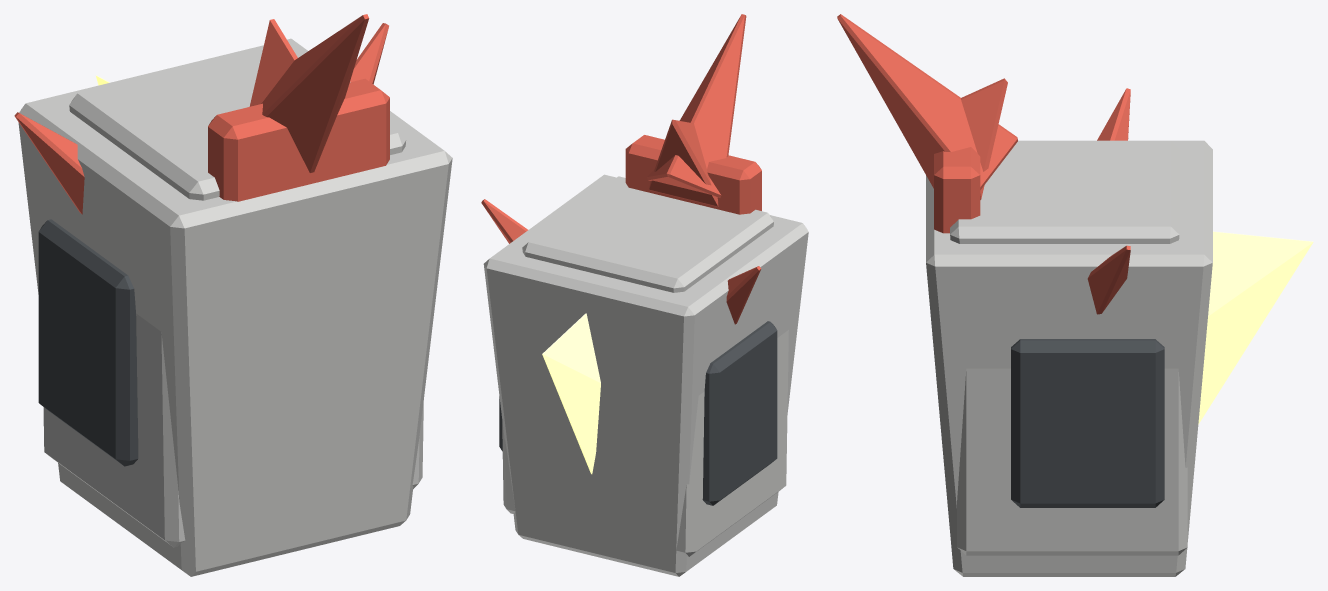
Rendered from legs.glb.
3 renders of one model, left to right at view 1: azimuth 30°, elevation 25°; view 2: azimuth 150°, elevation 25°; view 3: azimuth 270°, elevation 25°, orthographic. The views are drawn at different scales.
Visible parts, largest first — view 1: legs__heavy__LeftLeg, legs__heavy__RightLeg, legs__heavy__RightUpLeg, legs__spike__LeftLeg, legs__sprint__LeftLeg, legs__spike__RightLeg, legs__sprint__RightLeg, legs__spike__RightUpLeg, legs__spike__LeftUpLeg; view 2: legs__heavy__LeftLeg, legs__heavy__RightLeg, legs__heavy__RightUpLeg, legs__spike__LeftLeg, legs__spike__RightLeg, legs__sprint__RightLeg, legs__sprint__LeftLeg, legs__heavy__LeftUpLeg, legs__spike__RightUpLeg, legs__spike__LeftUpLeg; view 3: legs__heavy__LeftUpLeg, legs__heavy__LeftLeg, legs__spike__RightLeg, legs__spike__LeftLeg, legs__heavy__RightLeg, legs__sprint__LeftLeg, legs__sprint__RightLeg, legs__spike__LeftUpLeg, legs__spike__RightUpLeg.
Boxes of the visible parts, left/top/right/bottom form: legs__heavy__LeftLeg: left=18, top=38, right=452, bottom=576; legs__heavy__RightLeg: left=18, top=39, right=452, bottom=576; legs__heavy__RightUpLeg: left=38, top=107, right=185, bottom=547; legs__spike__LeftLeg: left=69, top=14, right=406, bottom=200; legs__sprint__LeftLeg: left=99, top=19, right=297, bottom=172; legs__spike__RightLeg: left=76, top=15, right=405, bottom=200; legs__sprint__RightLeg: left=100, top=19, right=296, bottom=172; legs__spike__RightUpLeg: left=14, top=112, right=84, bottom=214; legs__spike__LeftUpLeg: left=350, top=23, right=388, bottom=84; legs__heavy__LeftLeg: left=483, top=135, right=808, bottom=576; legs__heavy__RightLeg: left=484, top=135, right=808, bottom=576; legs__heavy__RightUpLeg: left=676, top=261, right=788, bottom=556; legs__spike__LeftLeg: left=522, top=14, right=773, bottom=473; legs__spike__RightLeg: left=522, top=14, right=773, bottom=474; legs__sprint__RightLeg: left=545, top=120, right=736, bottom=271; legs__sprint__LeftLeg: left=544, top=119, right=738, bottom=271; legs__heavy__LeftUpLeg: left=499, top=186, right=601, bottom=513; legs__spike__RightUpLeg: left=726, top=266, right=761, bottom=324; legs__spike__LeftUpLeg: left=481, top=199, right=527, bottom=243; legs__heavy__LeftUpLeg: left=957, top=240, right=1187, bottom=555; legs__heavy__LeftLeg: left=926, top=140, right=1212, bottom=576; legs__spike__RightLeg: left=838, top=15, right=1313, bottom=424; legs__spike__LeftLeg: left=837, top=14, right=1313, bottom=243; legs__heavy__RightLeg: left=926, top=140, right=1212, bottom=576; legs__sprint__LeftLeg: left=961, top=78, right=1156, bottom=218; legs__sprint__RightLeg: left=961, top=79, right=1156, bottom=215; legs__spike__LeftUpLeg: left=1087, top=245, right=1130, bottom=314; legs__spike__RightUpLeg: left=1097, top=88, right=1130, bottom=140.
Size of the model in its own units: 0.2466 by 0.3711 by 0.3098.
